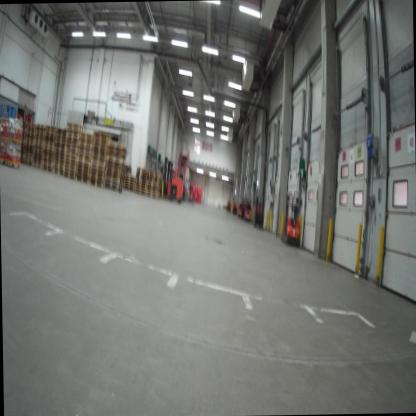pallet_truck: (281, 186, 304, 248), (167, 168, 186, 202), (252, 195, 266, 234), (180, 187, 195, 204), (243, 198, 253, 221), (236, 201, 246, 219)
